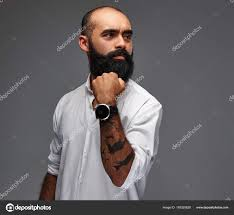middle_eastern_male: (88, 9, 135, 74)
